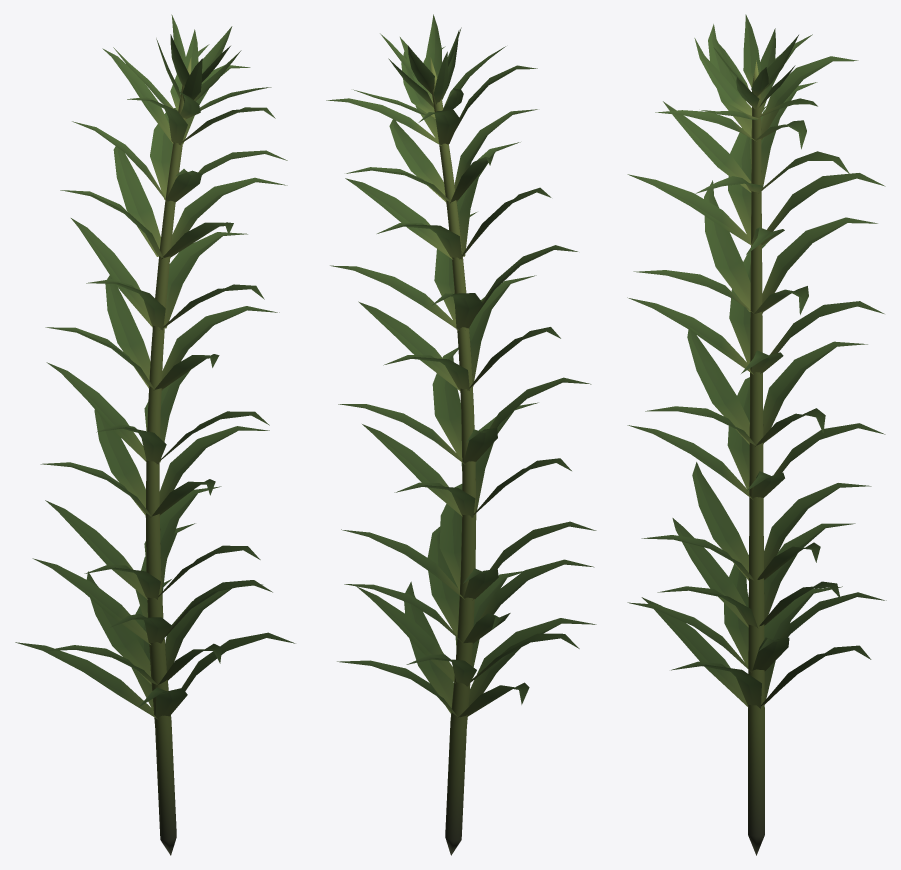
File: underwater-aquatic-plants-waterweed_v5.fbx
3 views of the same model, side by side, from view 1: azimuth 30°, elevation 25°; view 2: azimuth 150°, elevation 25°; view 3: azimuth 270°, elevation 25° (orthographic).
Visible parts, largest first — view 1: Waterweed_v5; view 2: Waterweed_v5; view 3: Waterweed_v5.
Part boxes in pixels (bbox=[...]): Waterweed_v5: bbox=[15, 14, 295, 855]; Waterweed_v5: bbox=[326, 14, 596, 855]; Waterweed_v5: bbox=[627, 14, 886, 855].
Bounding box in the file's own units: 0.1822 × 0.6 × 0.1691.
